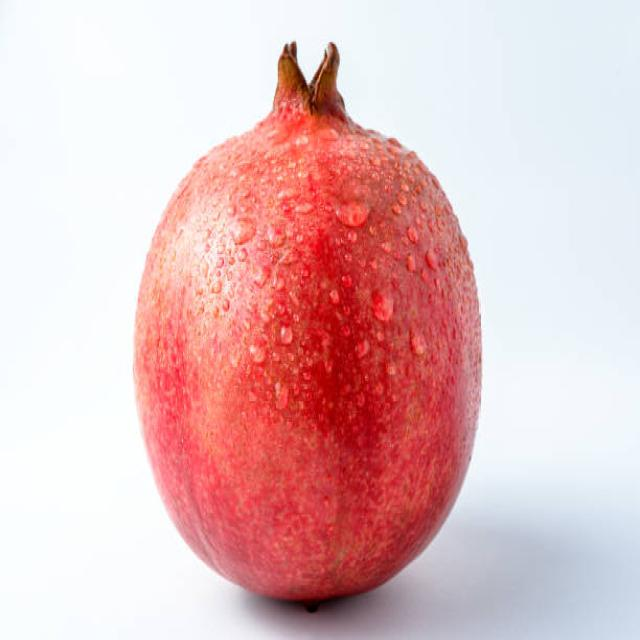Ripe: (129, 29, 486, 606)
